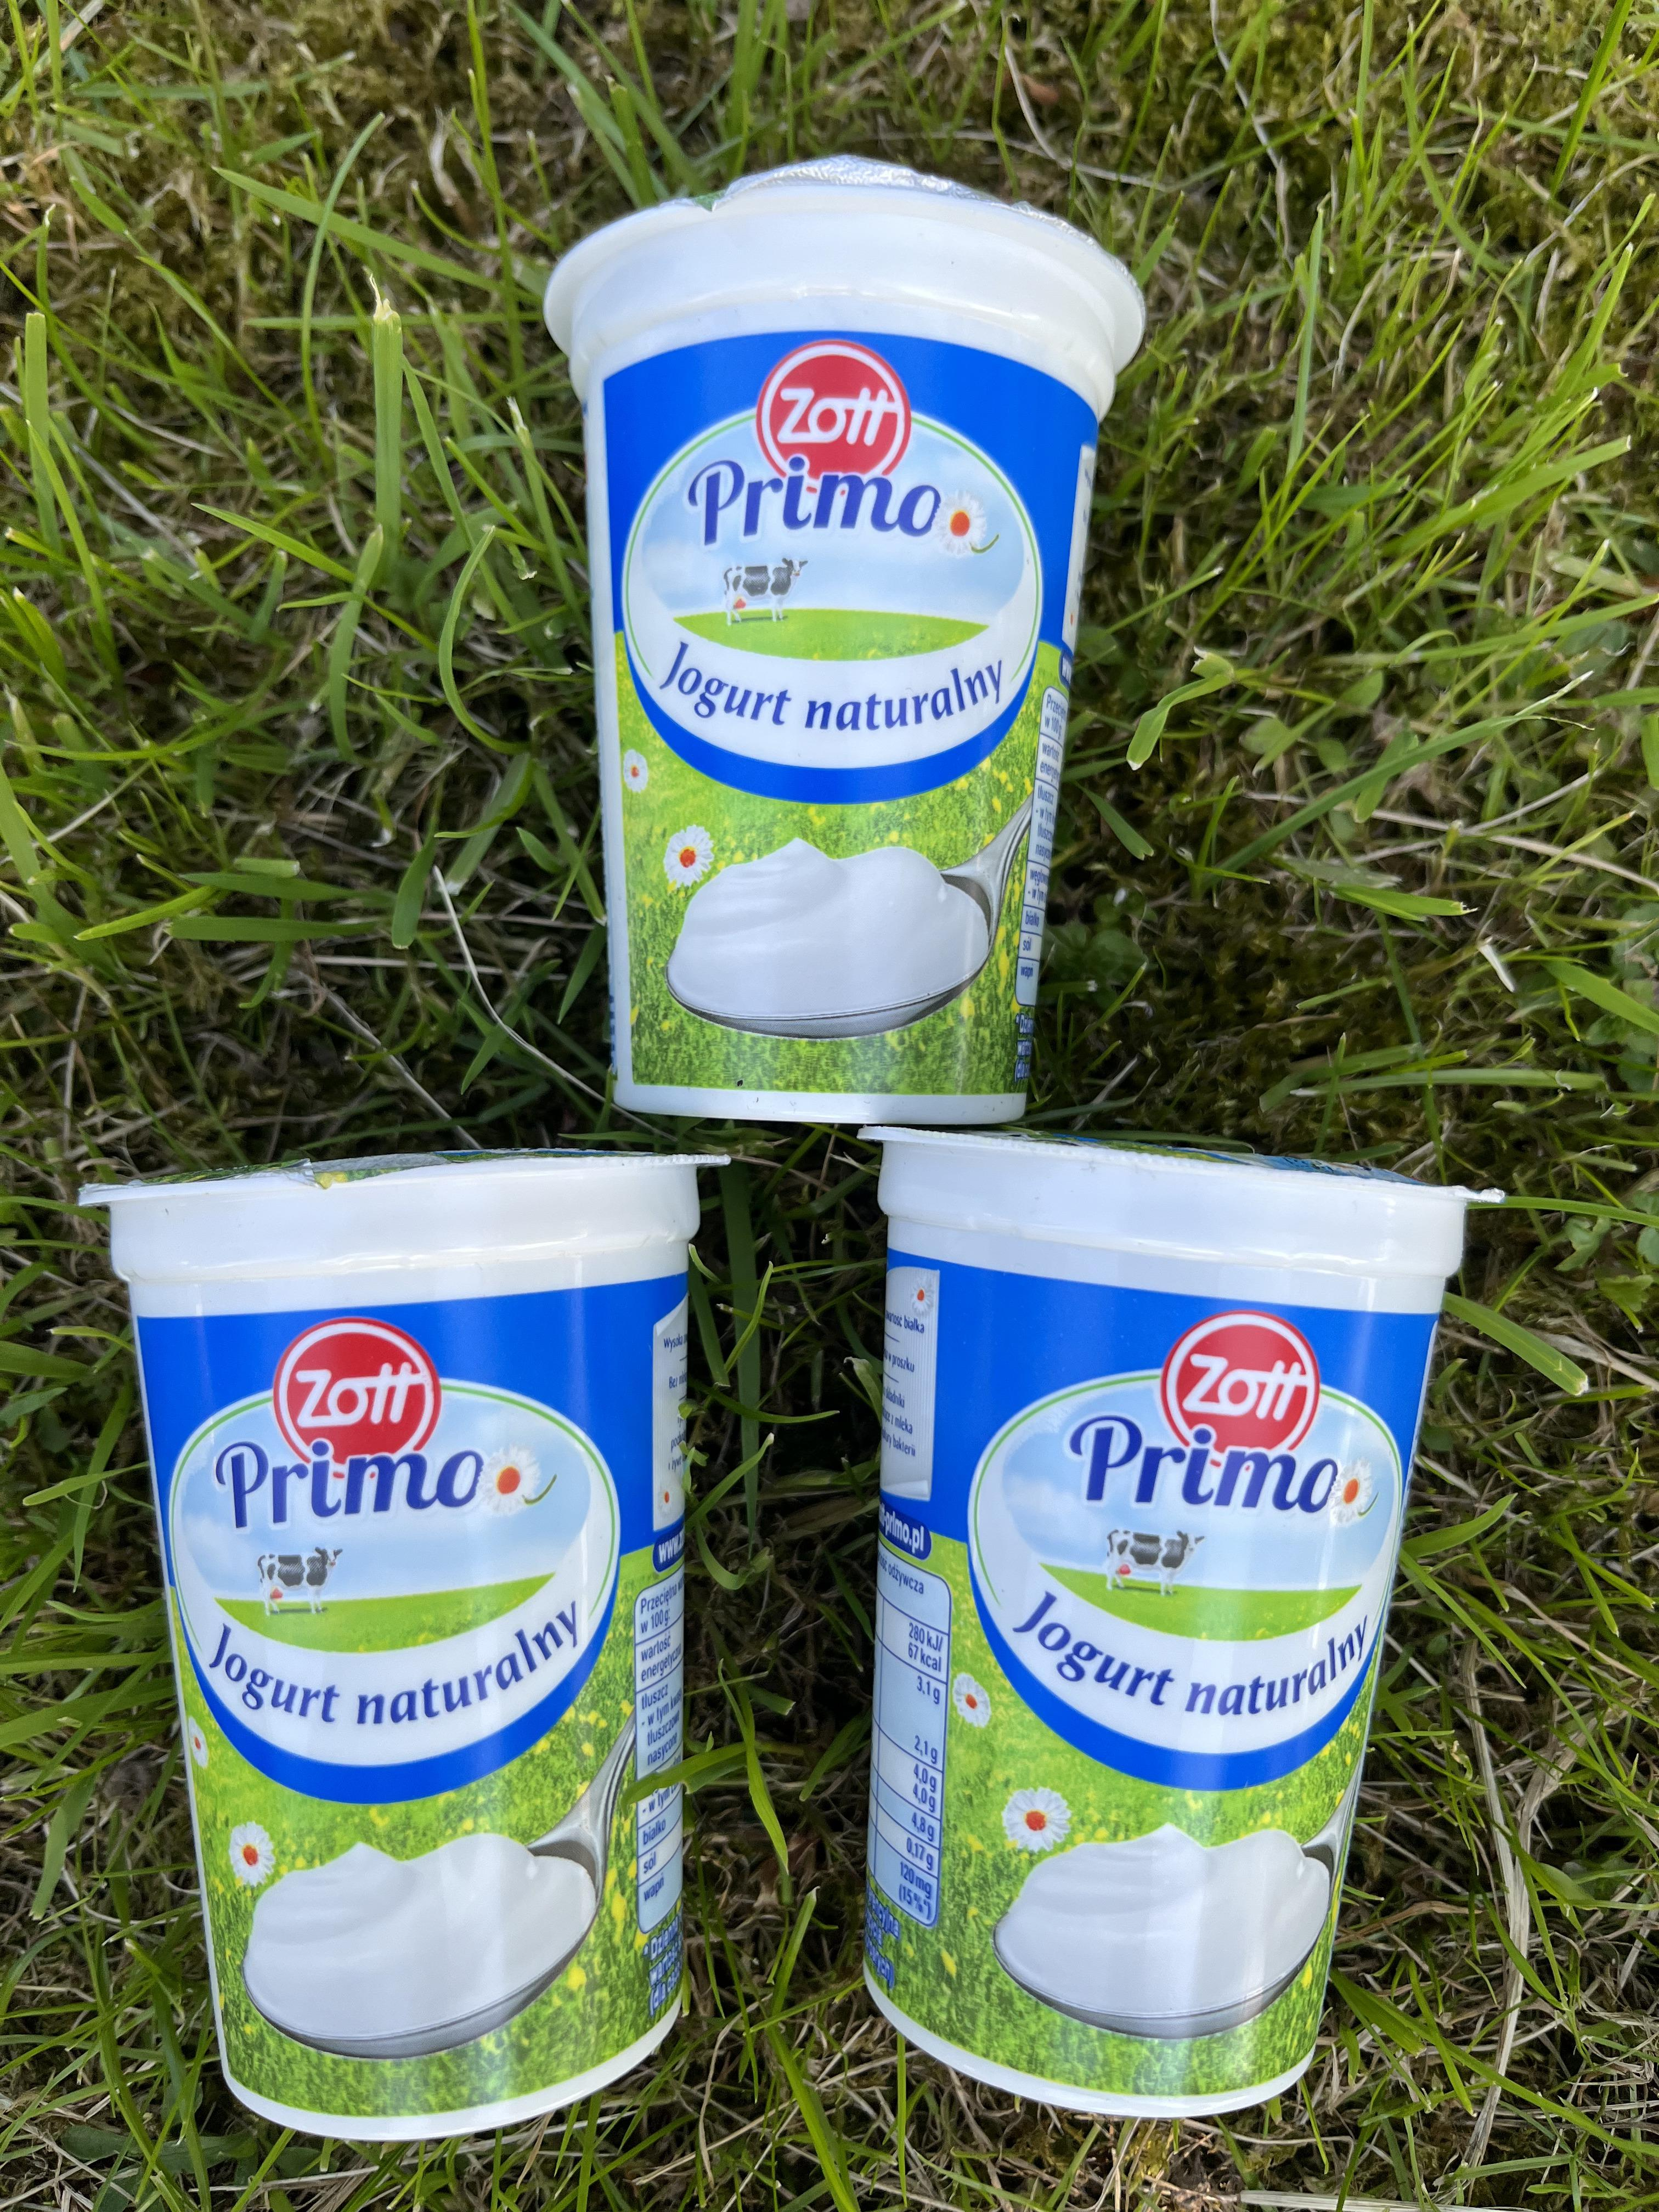Yogurt: (160, 1191, 746, 2137), (596, 197, 1086, 1115), (889, 1146, 1354, 2095)
